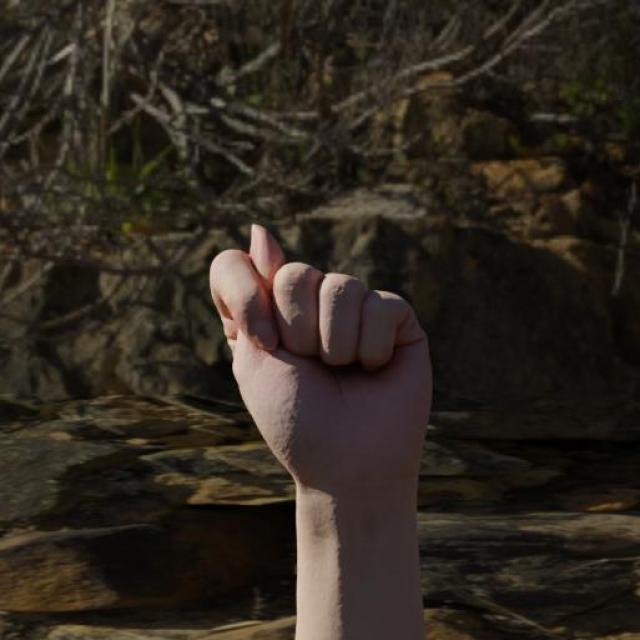T: (200, 217, 436, 485)
